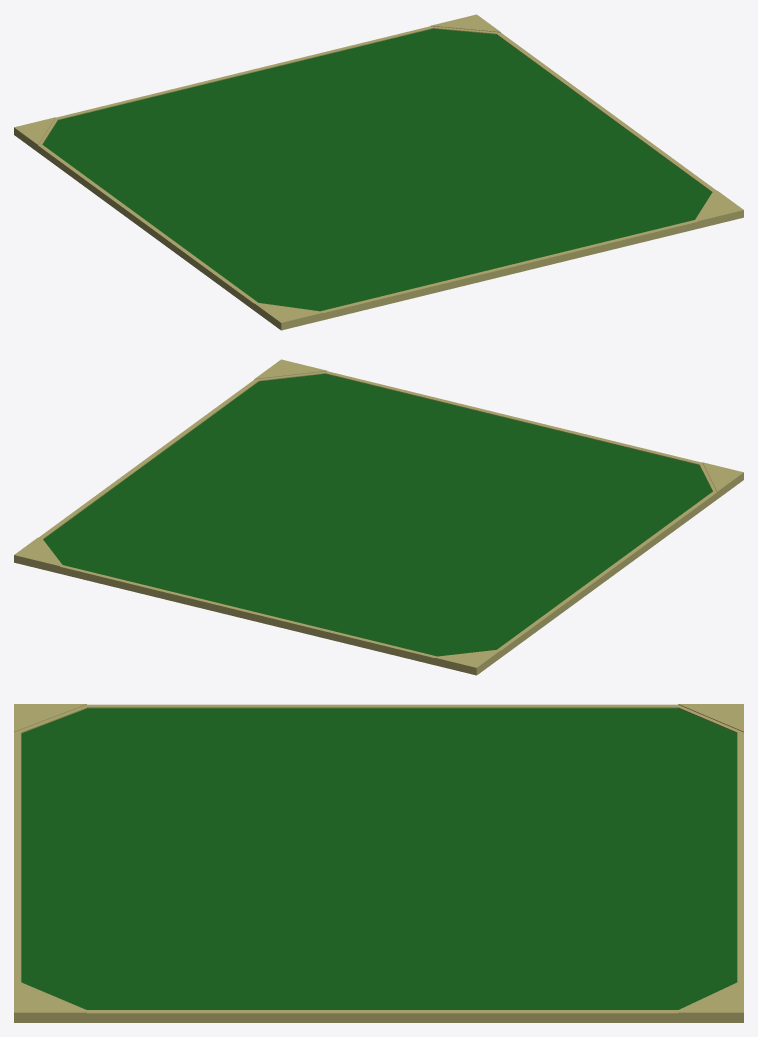
The model's file is ReposoBueno.fbx.
3 views of the same model, one above another, from view 1: azimuth 30°, elevation 25°; view 2: azimuth 150°, elevation 25°; view 3: azimuth 270°, elevation 25° (orthographic). The views are drawn at different scales.
Parts seen in each view (by area): view 1: Reposo1; view 2: Reposo1; view 3: Reposo1.
Boxes of the visible parts, box(x1,y1,x2,y2) form: Reposo1: box(14, 14, 743, 330); Reposo1: box(14, 359, 743, 675); Reposo1: box(14, 704, 743, 1022).
Bounding box in the file's own units: 2.57 × 0.0406 × 2.57.
